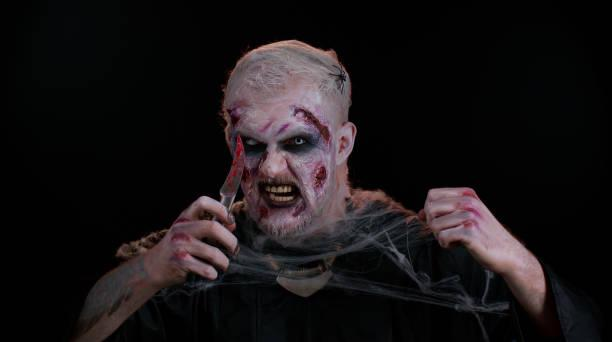Zombie: (218, 49, 359, 238)
